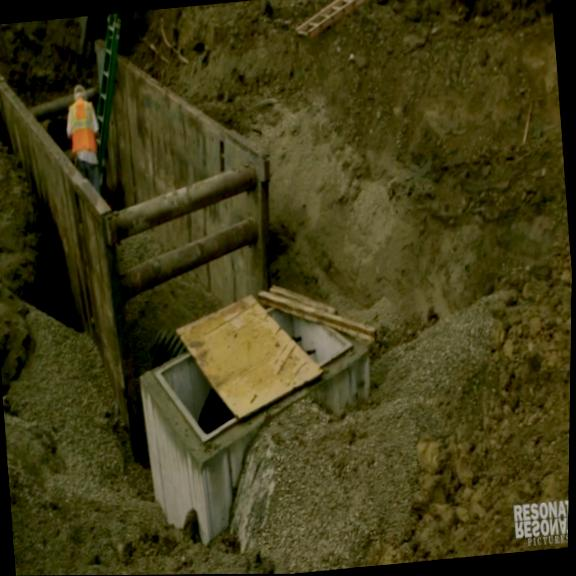safety_vest: (66, 94, 100, 155)
